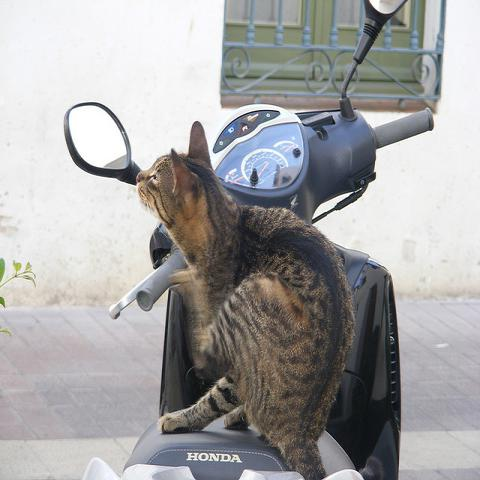motorcycle: (63, 4, 441, 476)
